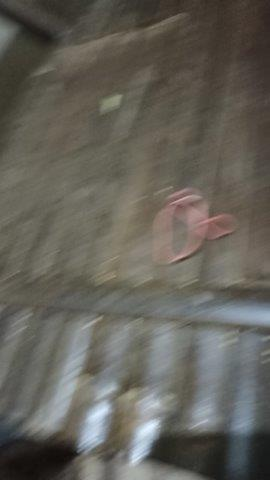karet: (157, 190, 235, 265)
